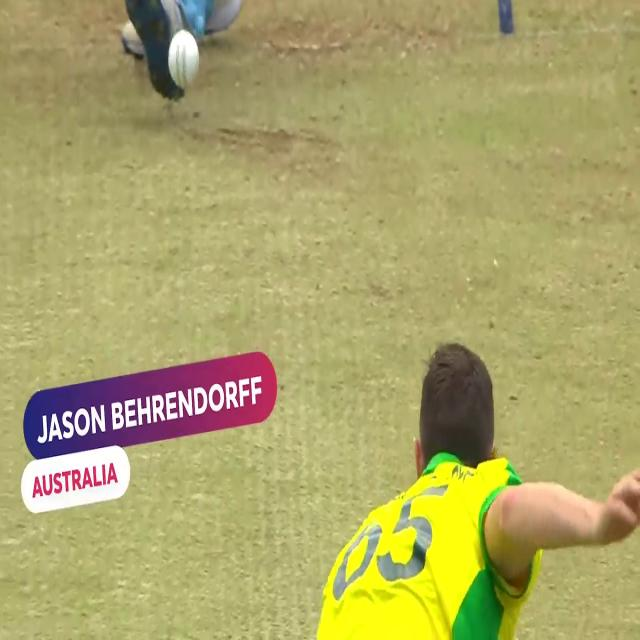ball: (164, 26, 204, 88)
